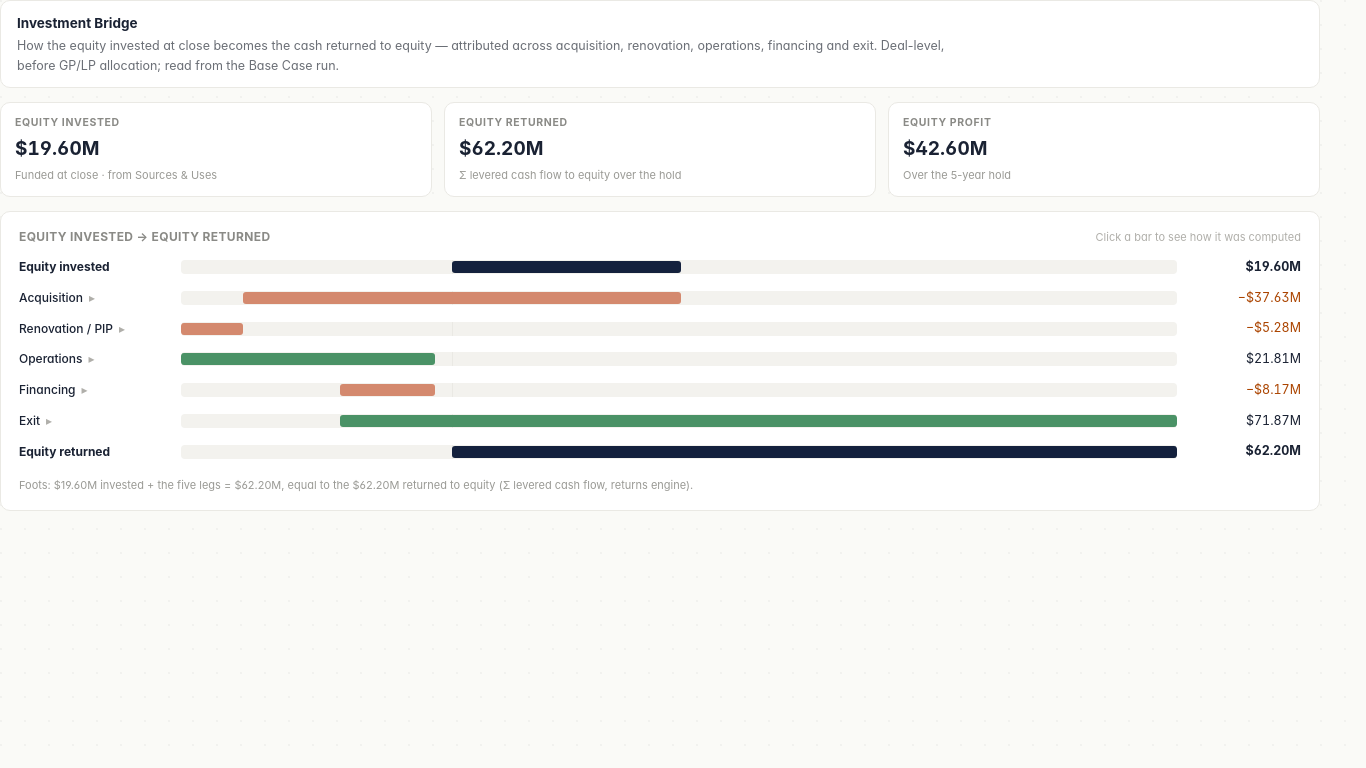
Test case: InvestmentBridgeTab › expands a leg to its engine fields
Click the row with test id "bridge-row-acquisition".
click(660, 297)  # box [19,290,1301,305]
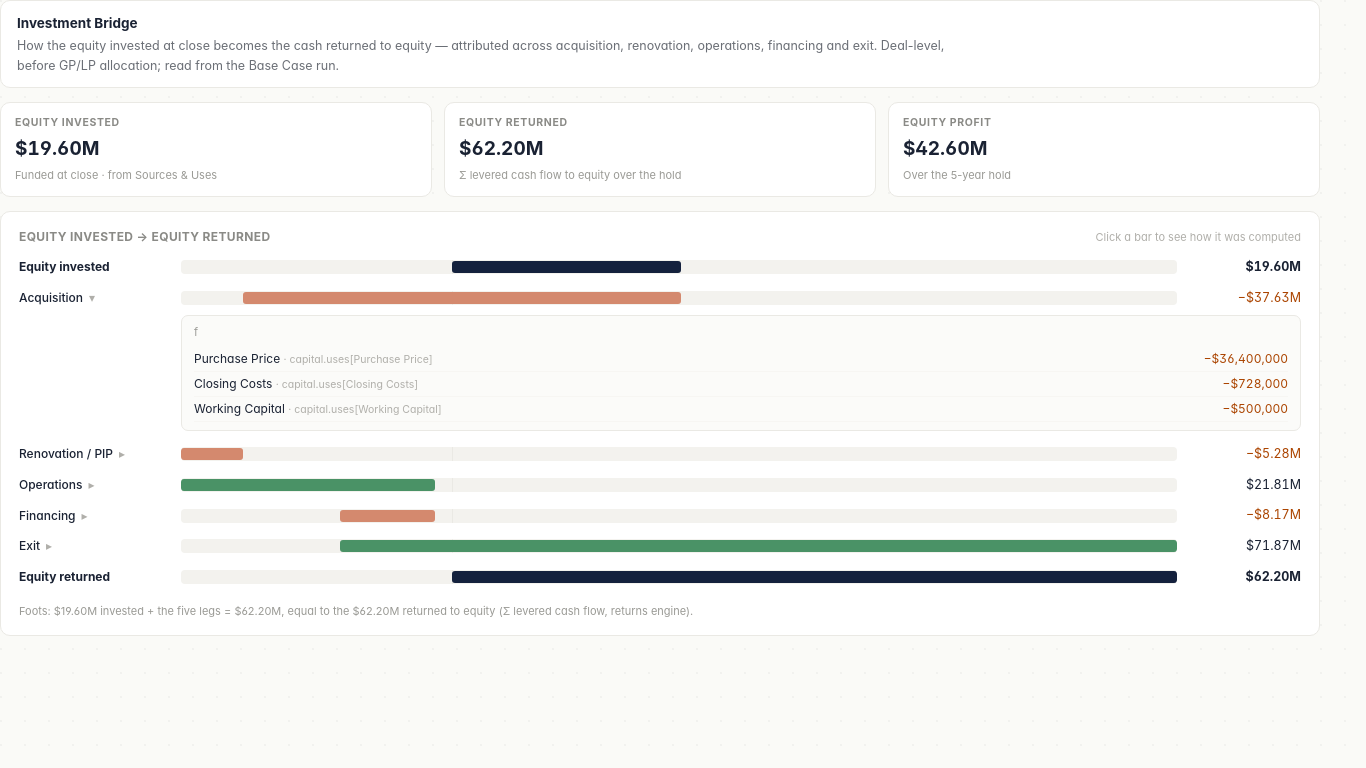
Check: the text "· capital.uses[Purchase Price]" is shown, box [284,353,432,366]
